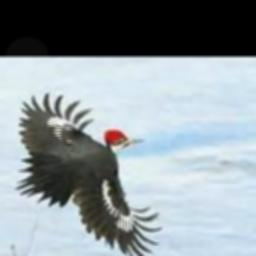Woodpecker: (15, 91, 163, 256)
